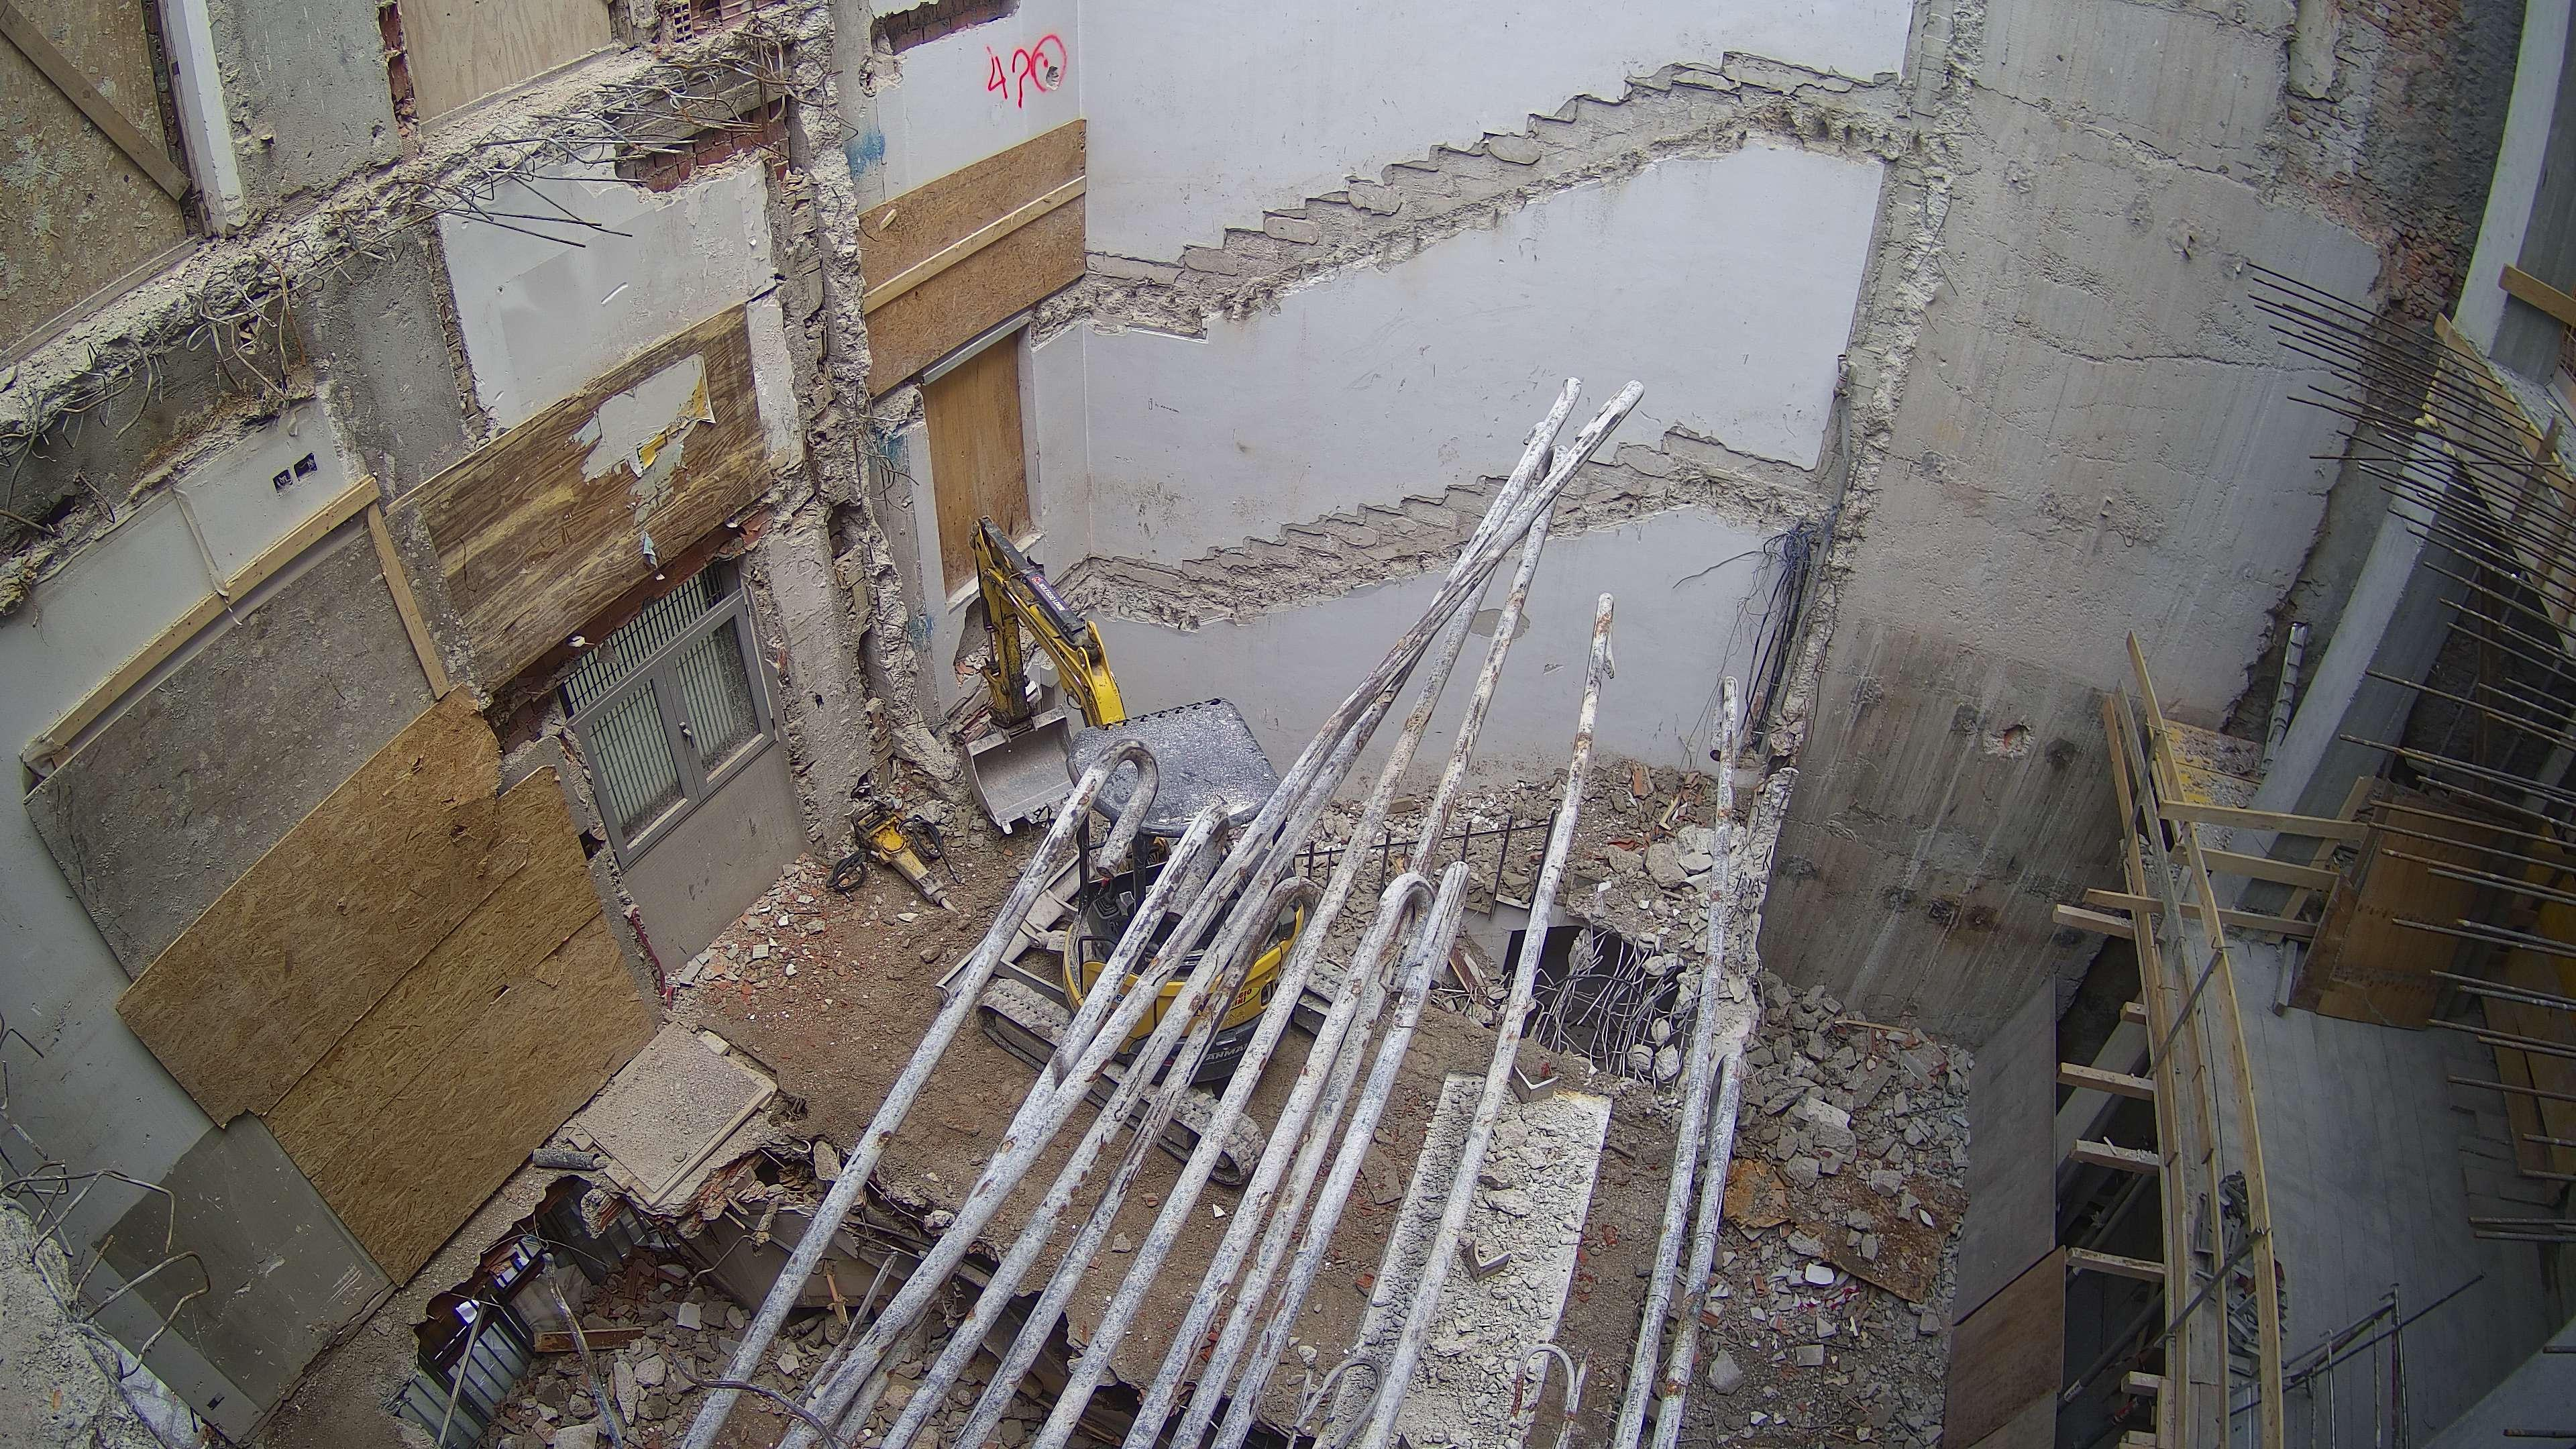excavator: (934, 513, 1353, 1191)
